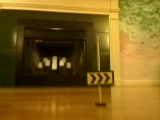right: (86, 72, 114, 84)
